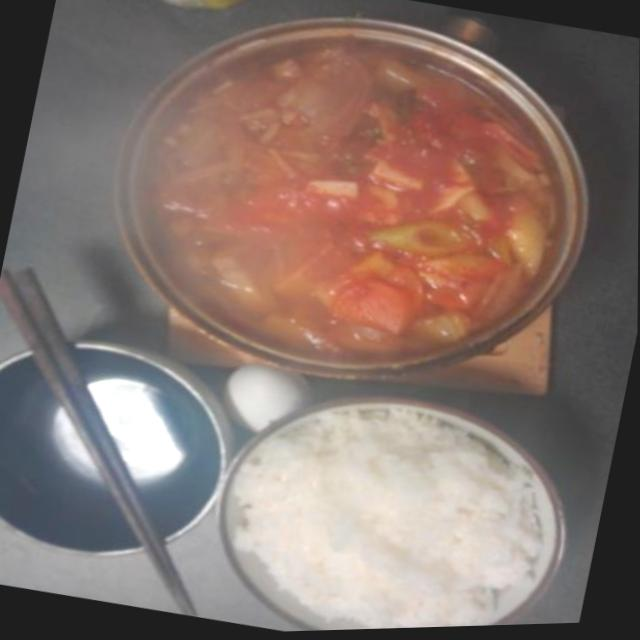米饭主食: (199, 359, 590, 635)
